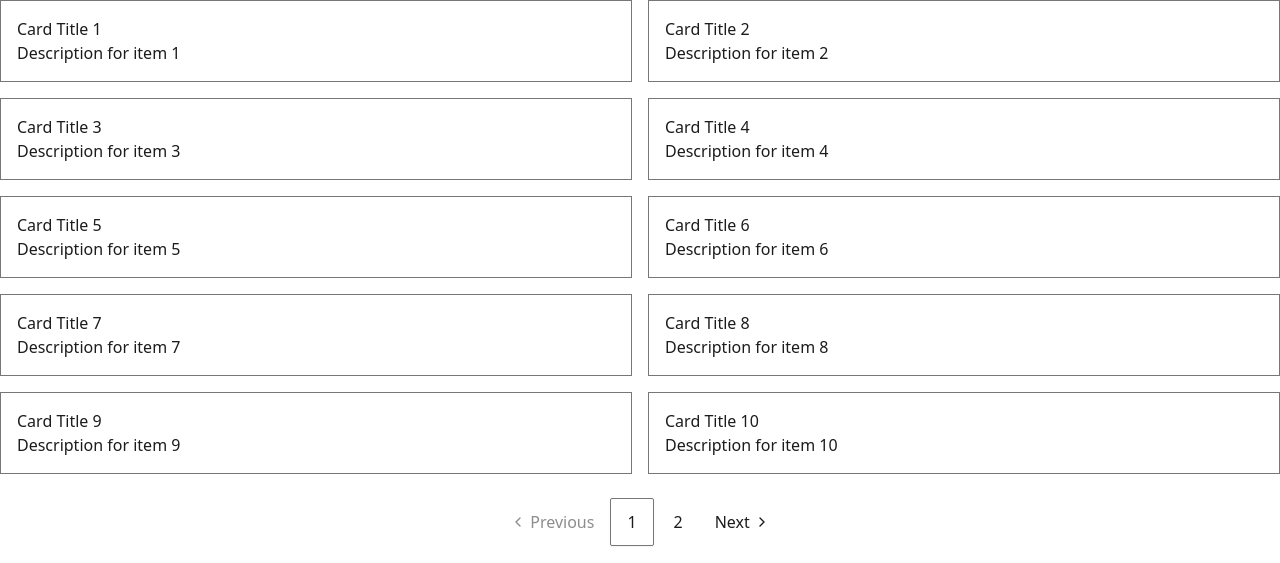
Scenario: CardTable › Pagination Logic › navigates by clicking page numbers
Step 1. Click the link "2" → [678, 522], box x1=674 y1=511 x2=683 y2=533
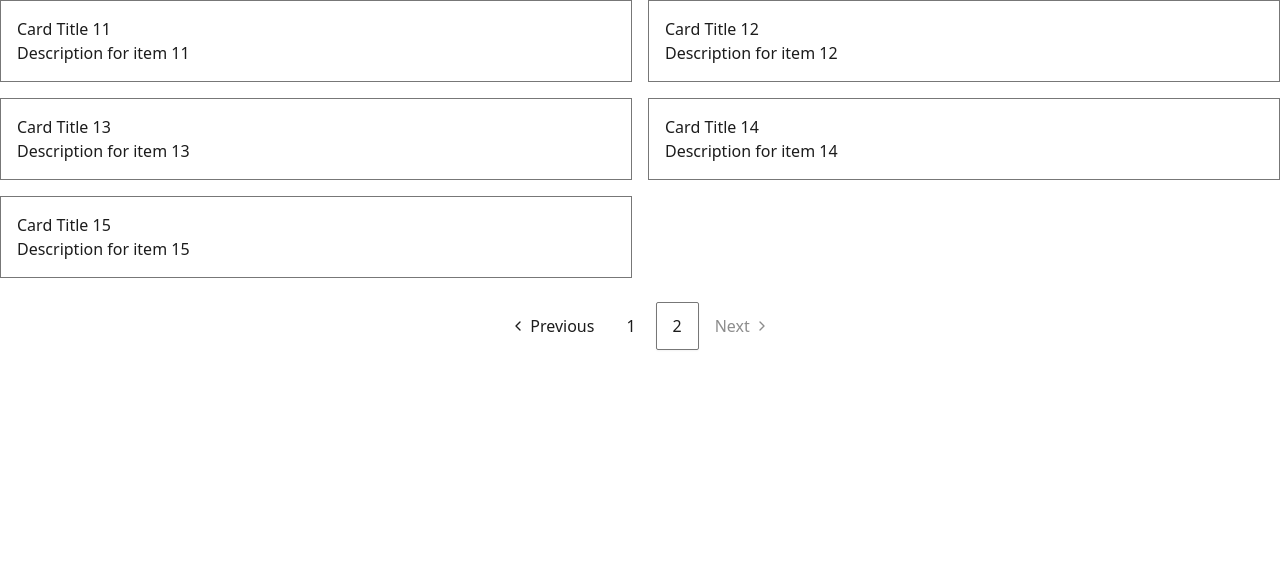
Check: the heading "Card Title 11" is shown, box x1=17 y1=18 x2=111 y2=40
